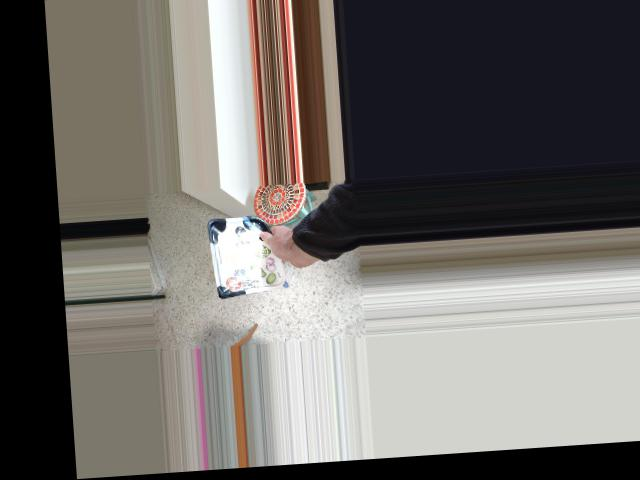cheese: (222, 210, 315, 295)
